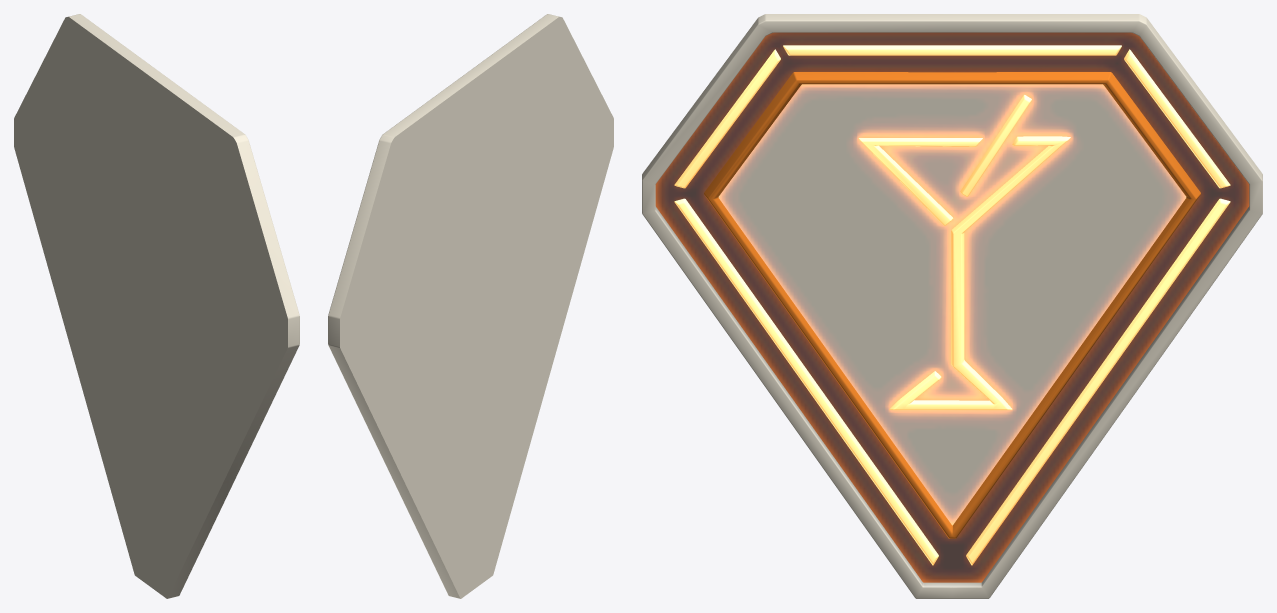
File: bar_sign_1_c.glb
3 renders of one model, left to right at view 1: azimuth 30°, elevation 25°; view 2: azimuth 150°, elevation 25°; view 3: azimuth 270°, elevation 25°, orthographic. The views are drawn at different scales.
Visible parts, largest first — view 1: bar_sign_1; view 2: bar_sign_1; view 3: bar_sign_1.
Part boxes in pixels (bbox=[...]): bar_sign_1: bbox=[14, 14, 299, 598]; bar_sign_1: bbox=[328, 14, 613, 598]; bar_sign_1: bbox=[642, 14, 1262, 598].
Bounding box in the file's own units: 0.047 × 1.51 × 1.47.
Materials: 1 (1 with a texture image).
